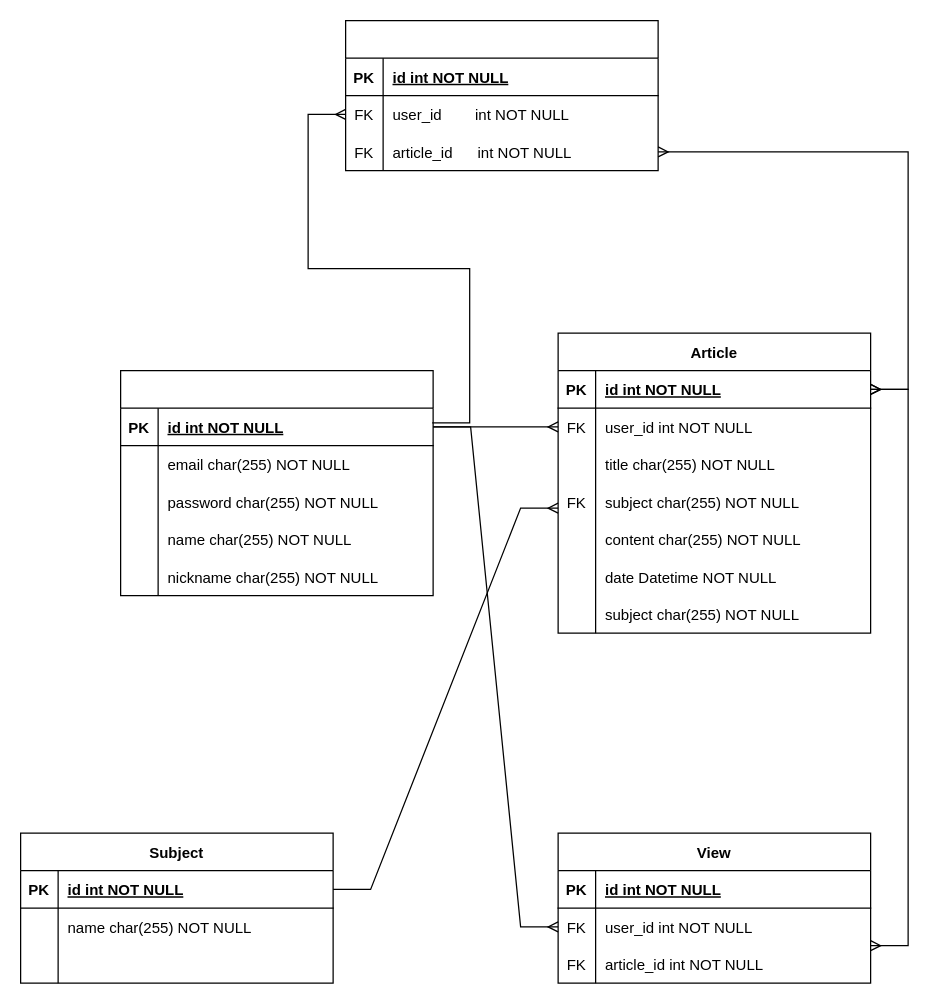
Image size: 929x1004. Some labels were removed from this diagram. Each missing label, with the box of its shape:
Like: (344, 19, 658, 171)
User: (119, 369, 433, 596)
